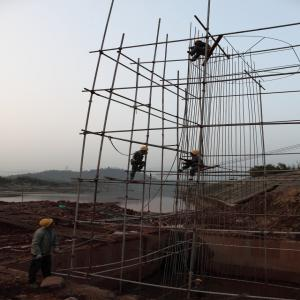yellow: (40, 218, 56, 230), (140, 147, 150, 154), (191, 151, 201, 158), (193, 40, 203, 47)
